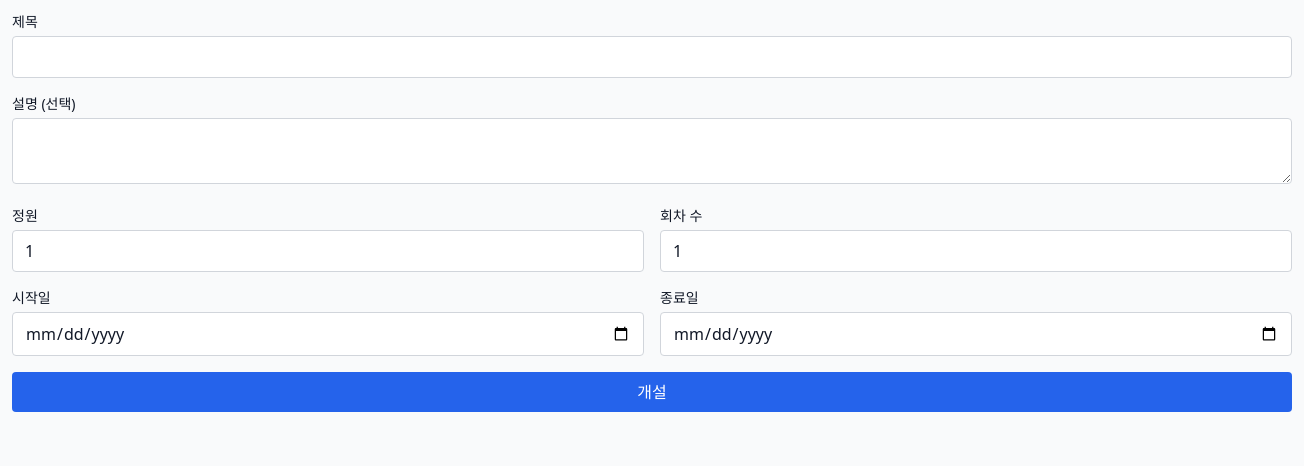
Test: CohortForm › 종료일이 시작일보다 이르면 검증 오류
The width and height of the screenshot is (1304, 466).
Type "자바 멘토링" into the field with test id "cohort-title".
click(652, 57); type("자바 멘토링")  # box x1=12 y1=36 x2=1292 y2=78
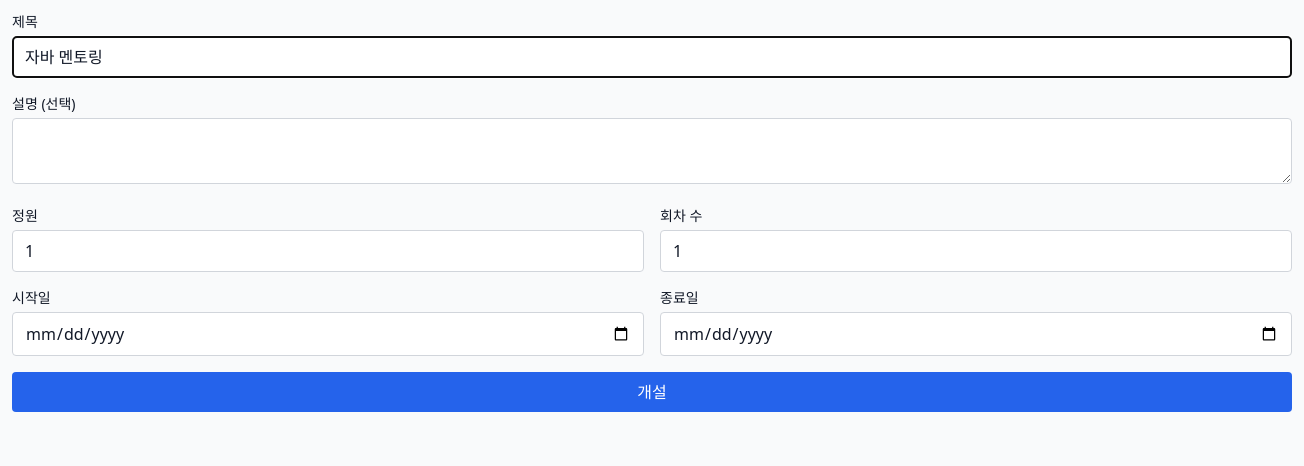
Type "2026-03-01" into the date field with test id "cohort-start-date".
click(328, 334); type("2026-03-01")  # box x1=12 y1=312 x2=644 y2=356
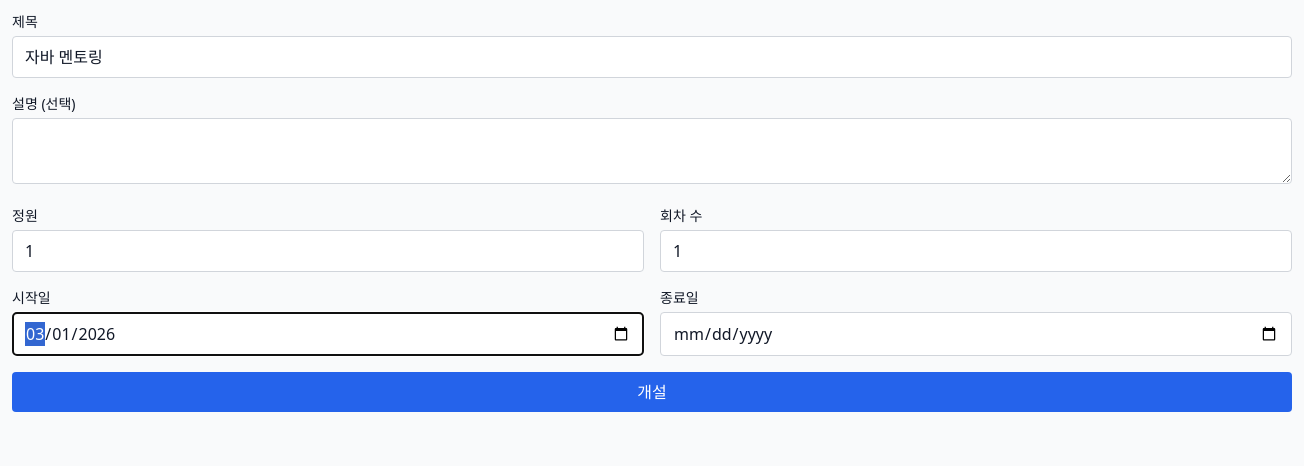
Type "2026-01-01" into the date field with test id "cohort-end-date".
click(976, 334); type("2026-01-01")  # box x1=660 y1=312 x2=1292 y2=356
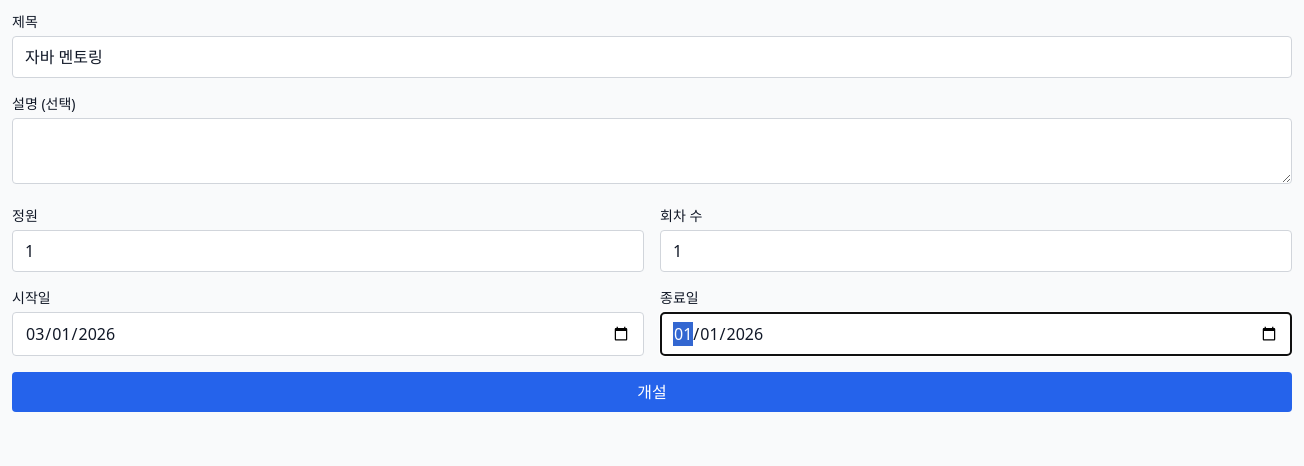
Click the button with test id "cohort-submit".
click(652, 392)  # box x1=12 y1=372 x2=1292 y2=412
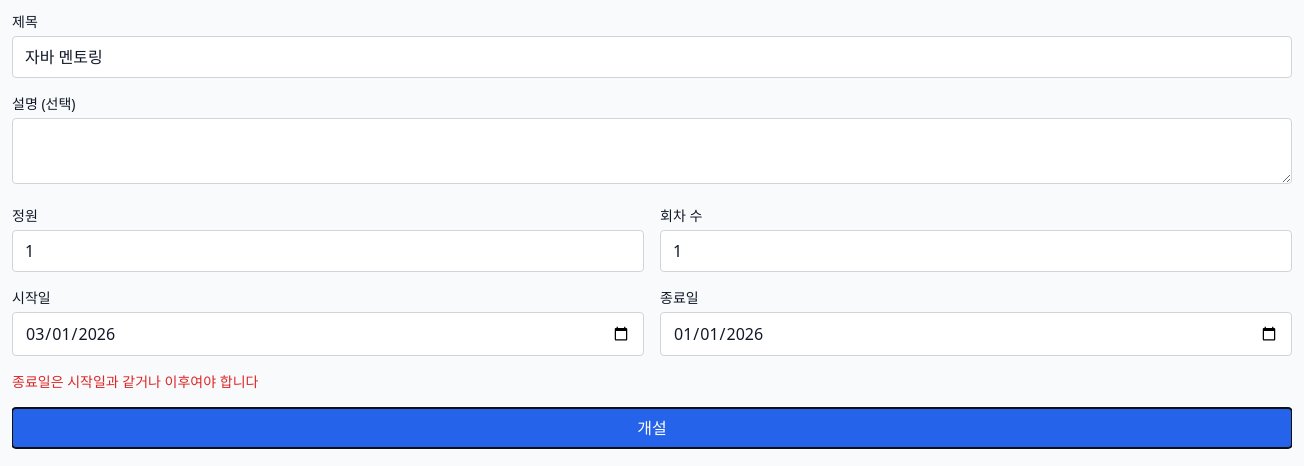
Check: the message with test id "cohort-form-error" shows "종료일", box x1=12 y1=372 x2=258 y2=391
